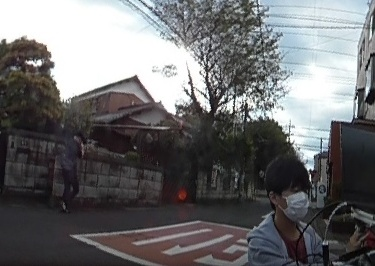person: (246, 155, 332, 266), (55, 130, 86, 210)
